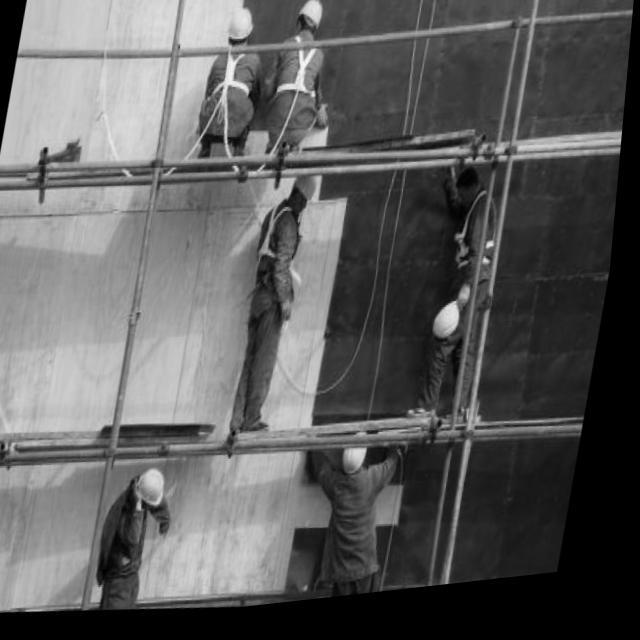belt: (252, 226, 326, 314), (446, 224, 518, 298), (268, 56, 330, 118), (202, 72, 269, 125)
